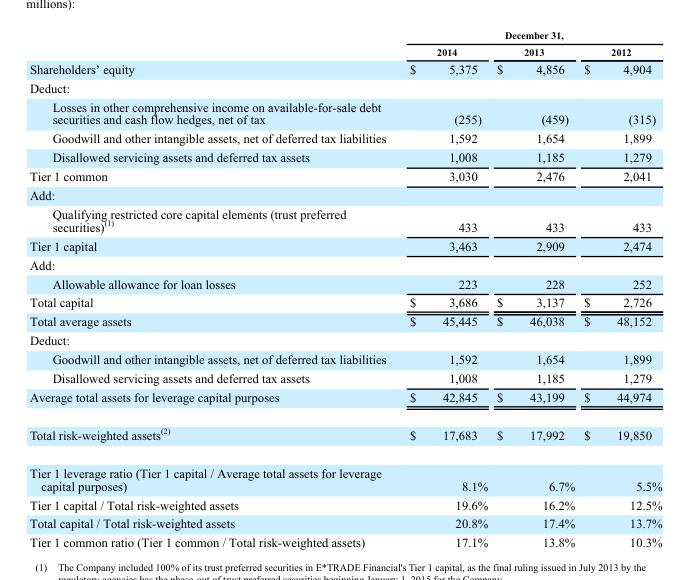table: (28, 29, 661, 549)
table column: (28, 29, 397, 549), (397, 29, 491, 549), (491, 29, 578, 549), (578, 29, 661, 549)
table column header: (28, 29, 661, 59)
table projected row header: (28, 78, 661, 97), (28, 185, 661, 204), (28, 254, 661, 273), (28, 330, 661, 349)
table row: (28, 453, 661, 494), (28, 414, 661, 453), (28, 97, 661, 128), (28, 204, 661, 235), (28, 387, 661, 414), (28, 59, 661, 78), (28, 78, 661, 97), (28, 128, 661, 147), (28, 147, 661, 166), (28, 166, 661, 185), (28, 185, 661, 204), (28, 235, 661, 254), (28, 254, 661, 273), (28, 273, 661, 292), (28, 292, 661, 311), (28, 311, 661, 330), (28, 330, 661, 349), (28, 349, 661, 368), (28, 368, 661, 387), (28, 494, 661, 513), (28, 513, 661, 532), (28, 42, 661, 59), (28, 532, 661, 549), (28, 29, 661, 42)
table spanning cell: (397, 29, 661, 42)
